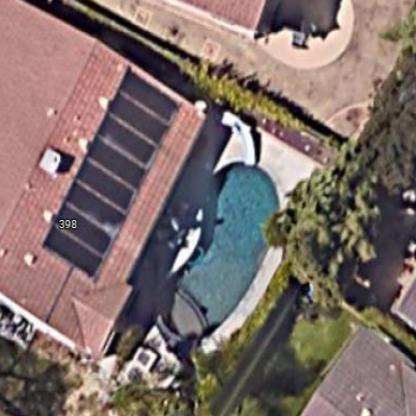pool: (152, 145, 288, 341)
